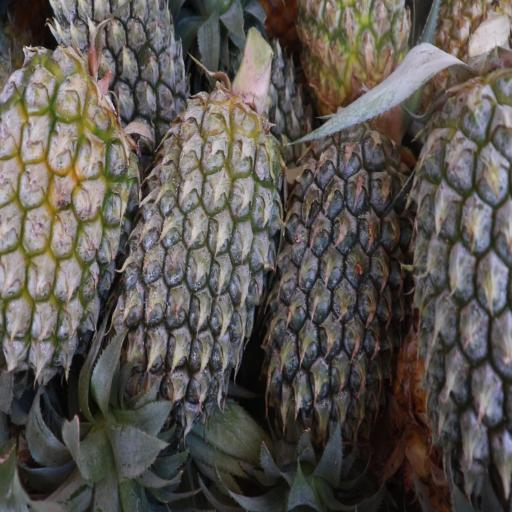------------------------------: (0, 62, 138, 363), (302, 0, 410, 120)
